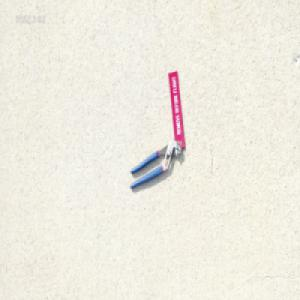Label: (166, 67, 185, 149)
Pliers: (129, 138, 181, 189)
